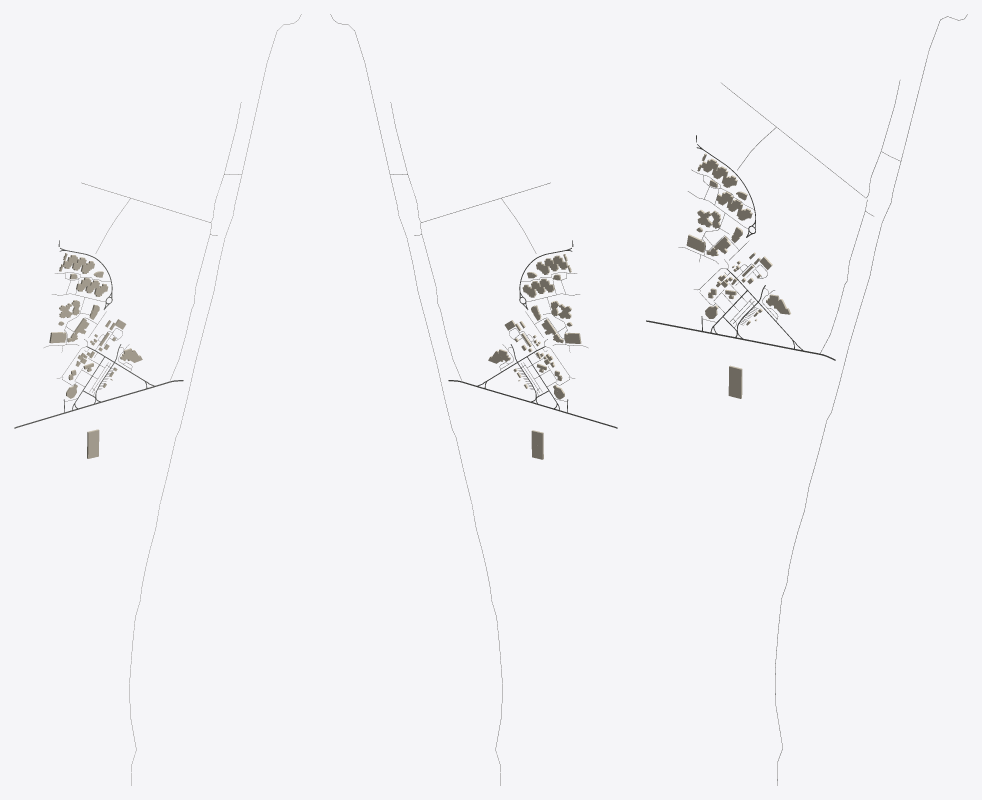
Rendered from historic-palestine-02_19_3443_3130.glb.
3 views of the same model, side by side, from view 1: azimuth 30°, elevation 25°; view 2: azimuth 150°, elevation 25°; view 3: azimuth 330°, elevation 25° (orthographic). The views are drawn at different scales.
Visible parts, largest first — view 1: Road .004; view 2: Road .004; view 3: Road .004.
Boxes of the visible parts, left/top/right/bottom form: Road .004: left=129, top=14, right=301, bottom=785; Road .004: left=330, top=14, right=502, bottom=785; Road .004: left=775, top=14, right=967, bottom=785.
Bounding box in the file's own units: 1158 × 2813 × 8.7.
